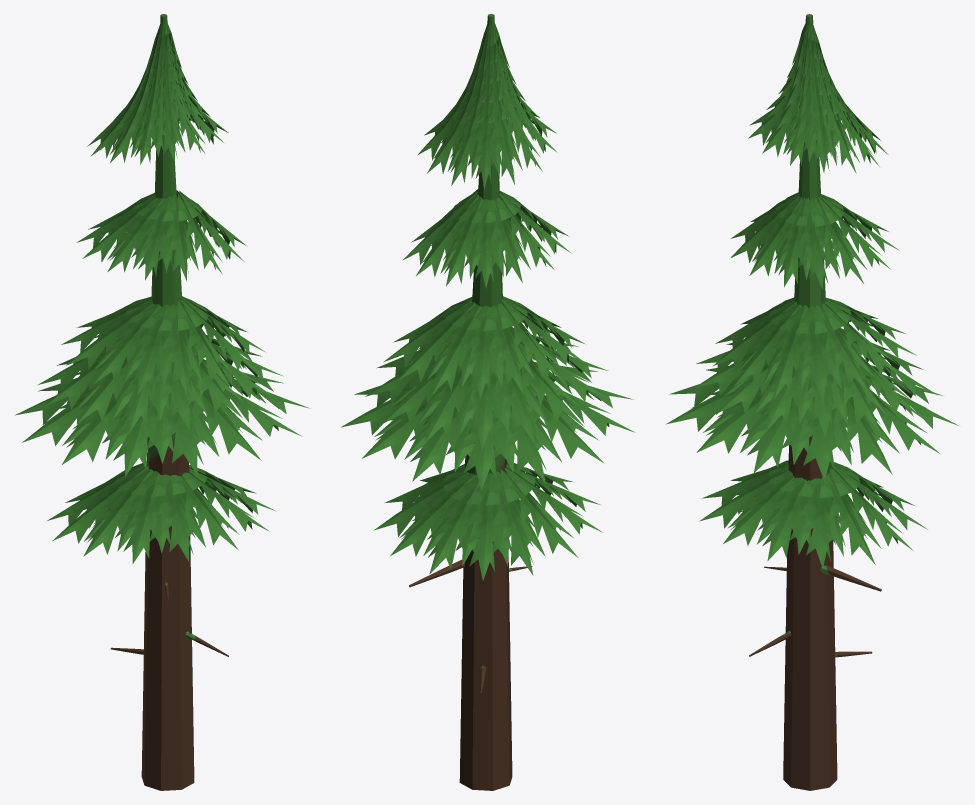
File: Tree_002_Pine_001.fbx
The picture shows the model from 3 angles, left to right: view 1: azimuth 30°, elevation 25°; view 2: azimuth 150°, elevation 25°; view 3: azimuth 270°, elevation 25°; orthographic projection.
Parts seen in each view (by area): view 1: Tree_002_Pine_001; view 2: Tree_002_Pine_001; view 3: Tree_002_Pine_001.
Boxes of the visible parts, box(x1,y1,x2,y2) form: Tree_002_Pine_001: box(15, 14, 309, 790); Tree_002_Pine_001: box(341, 14, 635, 790); Tree_002_Pine_001: box(666, 14, 958, 790).
Size of the model in its own units: 1091 by 3097 by 1089.
